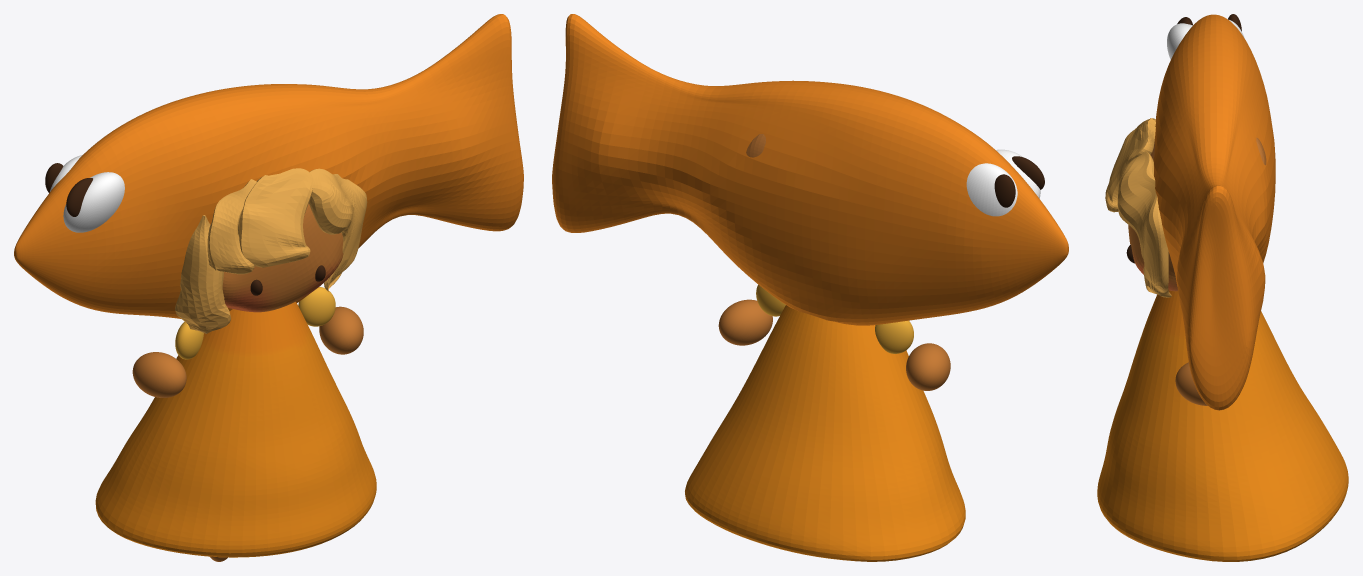
The model's file is fish.glb.
3 views of the same model, side by side, from view 1: azimuth 30°, elevation 25°; view 2: azimuth 150°, elevation 25°; view 3: azimuth 270°, elevation 25° (orthographic). The views are drawn at different scales.
Parts seen in each view (by area): view 1: Lathe, Cone, Tube (×4), Quad Sphere (×4), UV Sphere, Quad Sphere 4; view 2: Lathe, Cone, Quad Sphere (×3), UV Sphere 2; view 3: Cone, Lathe, Tube (×2), Quad Sphere (×2), UV Sphere.
Boxes of the visible parts, box(x1,y1,x2,y2) form: Lathe: box(14, 14, 523, 318); Cone: box(95, 302, 376, 557); Tube (×4): box(175, 168, 367, 333); Quad Sphere (×4): box(132, 203, 363, 397); UV Sphere: box(63, 172, 124, 232); Quad Sphere 4: box(298, 287, 335, 326); Lathe: box(552, 14, 1068, 325); Cone: box(685, 305, 965, 561); Quad Sphere (×3): box(718, 299, 950, 390); UV Sphere 2: box(966, 163, 1017, 216); Cone: box(1097, 290, 1348, 561); Lathe: box(1153, 14, 1275, 410); Tube (×2): box(1105, 120, 1171, 297); Quad Sphere (×2): box(1128, 137, 1266, 405); UV Sphere: box(1167, 23, 1192, 59).
Size of the model in its own units: 2.2 by 1.96 by 0.9221.
